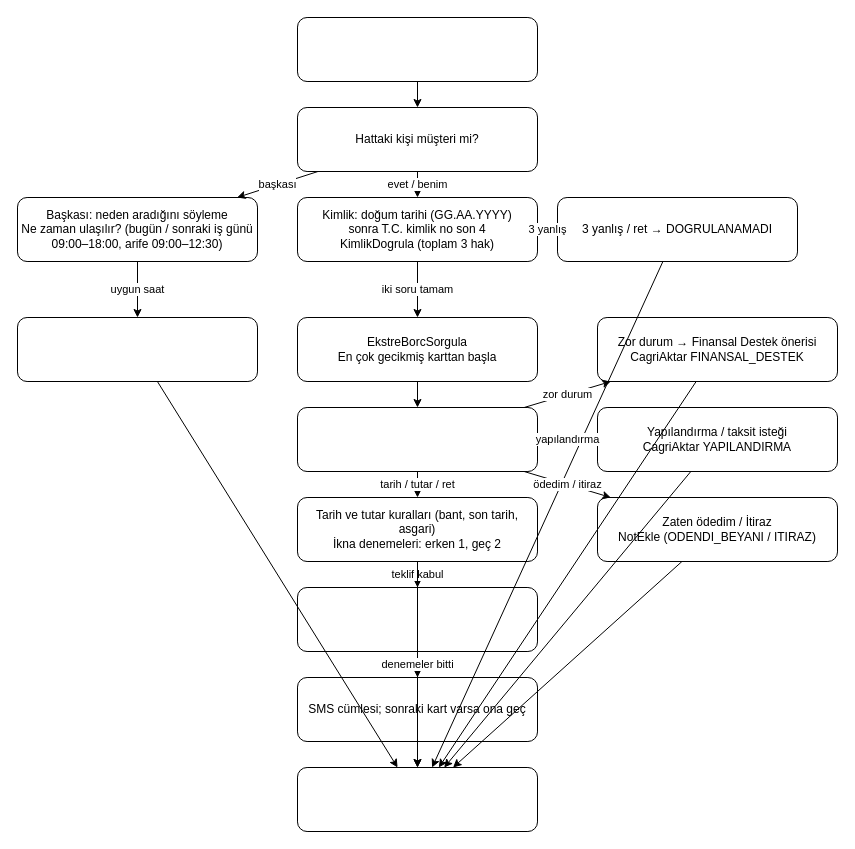
The diagram is 855 pixels wide and 849 high, and some of its shapes have lost their labels. The box of each missing label's shape, as (x1, y1, x2, y2) in pixels:
Açılış: dijital asistan + kayıt cümlesi '{ad} {soyad} ile mi görüşüyorum?': (296, 16, 538, 82)
Borcu bildir + 'Bu ödemeyi bugün yapabilir misiniz?': (296, 406, 538, 472)
GeriAramaPlanla: (16, 316, 258, 382)
Teşekkür + vedalaşma GorusmeKapat (sonuç / gerekçe): (296, 766, 538, 832)
Özet + 'Onaylıyor musunuz?' OdemeSozuKaydet (hata: 1 tekrar): (296, 586, 538, 652)
